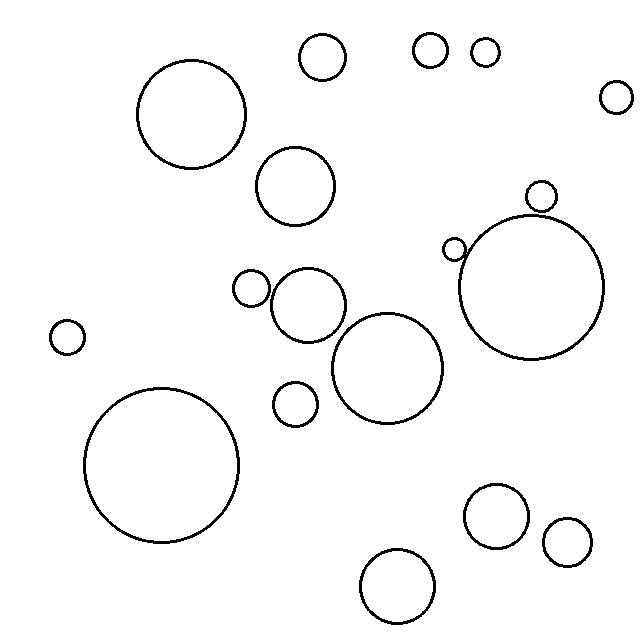circle: (80, 384, 243, 547), (455, 210, 608, 362), (330, 308, 447, 427), (134, 56, 250, 173), (254, 142, 339, 232), (357, 542, 438, 628), (269, 264, 350, 347), (460, 480, 533, 554), (293, 29, 350, 87), (539, 514, 596, 572), (271, 379, 321, 431), (409, 27, 454, 73), (230, 265, 273, 309), (597, 75, 637, 119), (46, 318, 89, 357), (524, 176, 561, 215), (466, 33, 504, 70), (439, 232, 469, 266)
